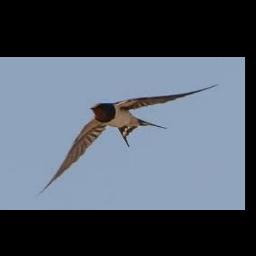Swallow: (36, 84, 219, 197)
